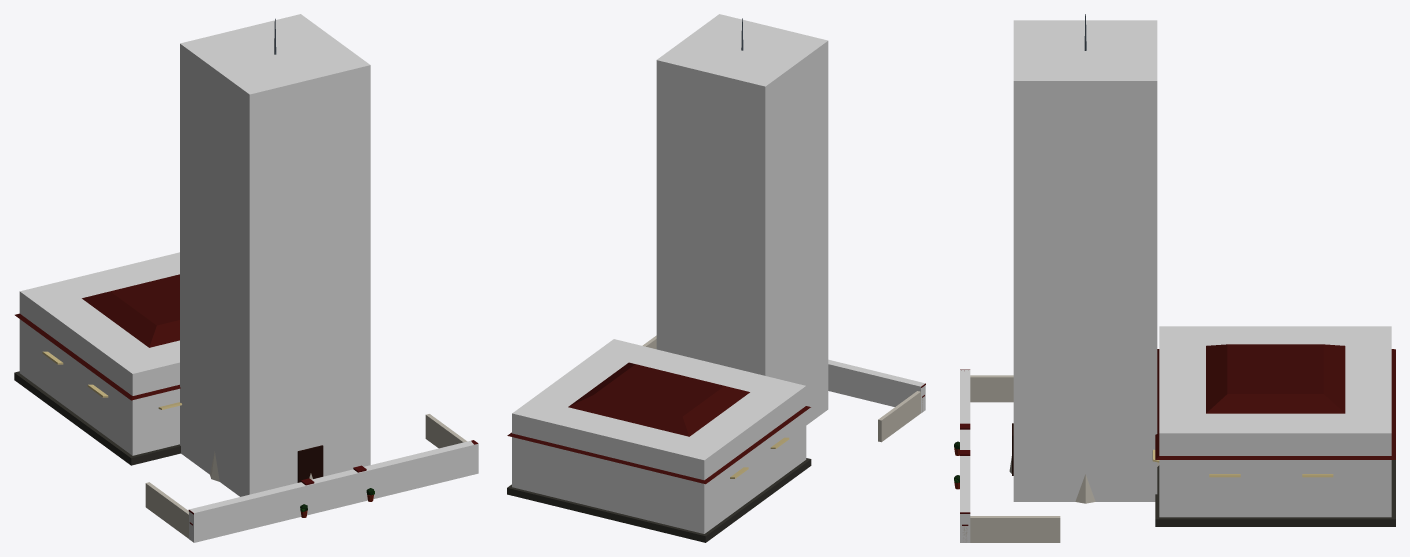
The model's file is N05_lighthouse_complex.glb.
3 renders of one model, left to right at view 1: azimuth 30°, elevation 25°; view 2: azimuth 150°, elevation 25°; view 3: azimuth 270°, elevation 25°, orthographic. The views are drawn at different scales.
Visible parts, largest first — view 1: COL_Main, COL_Verandah, LOD0, COL_Compound; view 2: COL_Main, COL_Verandah, LOD0, COL_Compound; view 3: COL_Main, COL_Verandah, LOD0, COL_Compound.
Part boxes in pixels (x1=…): COL_Main: x1=180, y1=14, x2=370, y2=496; COL_Verandah: x1=19, y1=252, x2=179, y2=455; LOD0: x1=14, y1=18, x2=478, y2=539; COL_Compound: x1=189, y1=440, x2=478, y2=542; COL_Main: x1=656, y1=14, x2=828, y2=425; COL_Verandah: x1=512, y1=339, x2=806, y2=533; LOD0: x1=507, y1=18, x2=925, y2=542; COL_Compound: x1=828, y1=359, x2=925, y2=413; COL_Main: x1=1013, y1=20, x2=1157, y2=501; COL_Verandah: x1=1159, y1=326, x2=1391, y2=517; LOD0: x1=954, y1=14, x2=1395, y2=542; COL_Compound: x1=960, y1=369, x2=970, y2=542.
Size of what is drawn, in the model's own units: 16.04 by 23.9 by 20.93.
